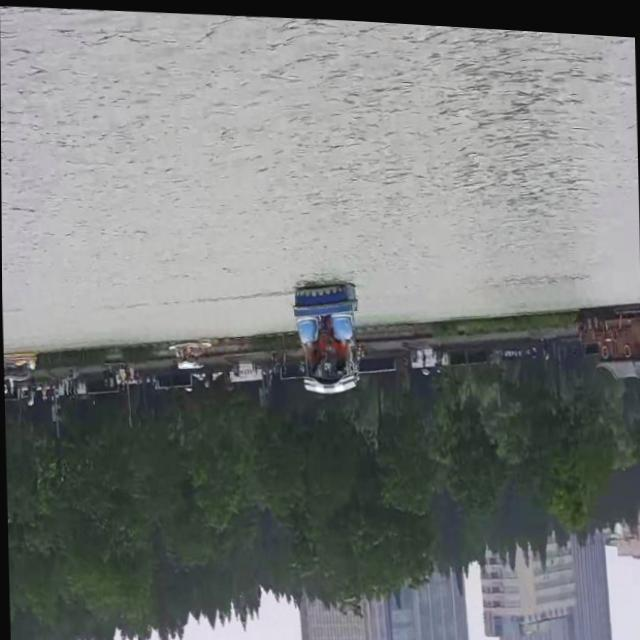ship2: (293, 276, 356, 388)
